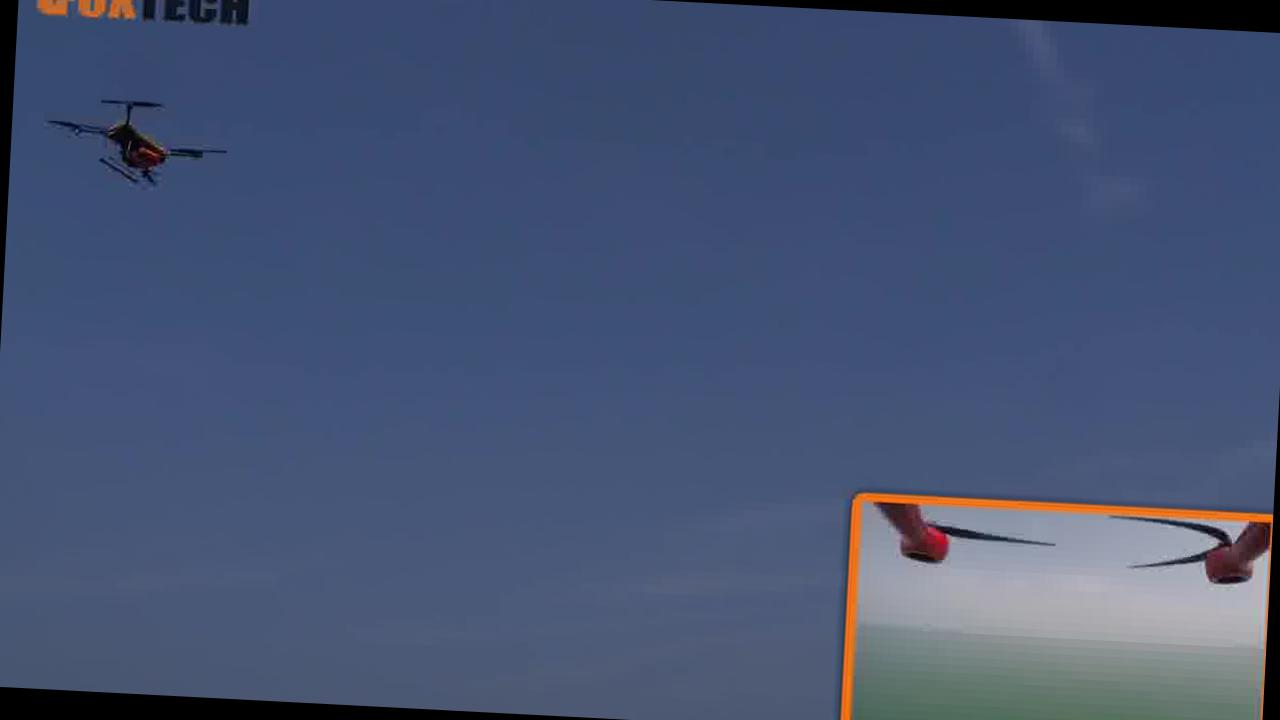drone: (14, 74, 248, 213)
